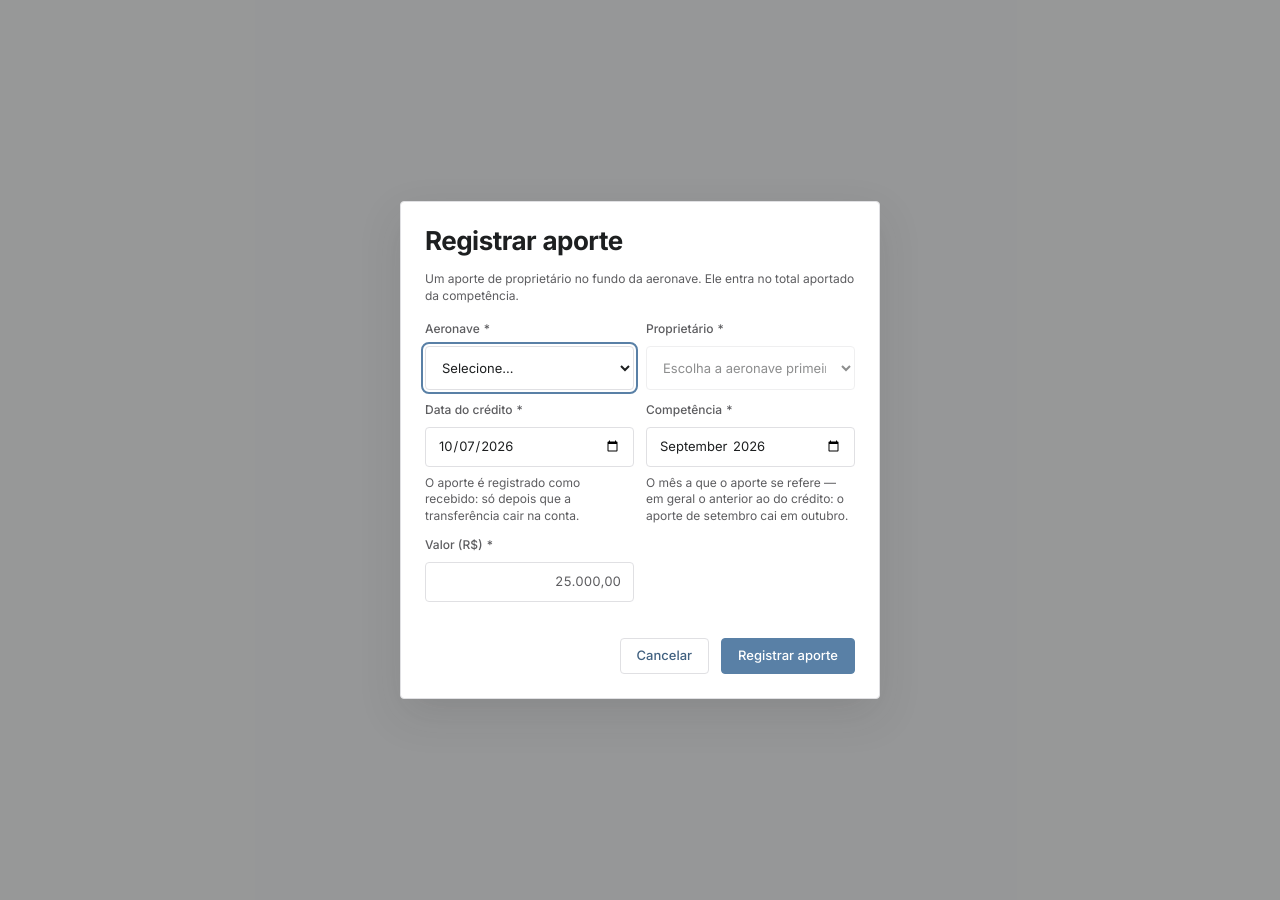
PainelDeAporte › salvar sem aeronave nem valor leva o foco à Aeronave e diz o que falta, sem ir ao servidor
The width and height of the screenshot is (1280, 900).
Click the button "Registrar aporte". click: (788, 656)
box: [721,638,855,674]
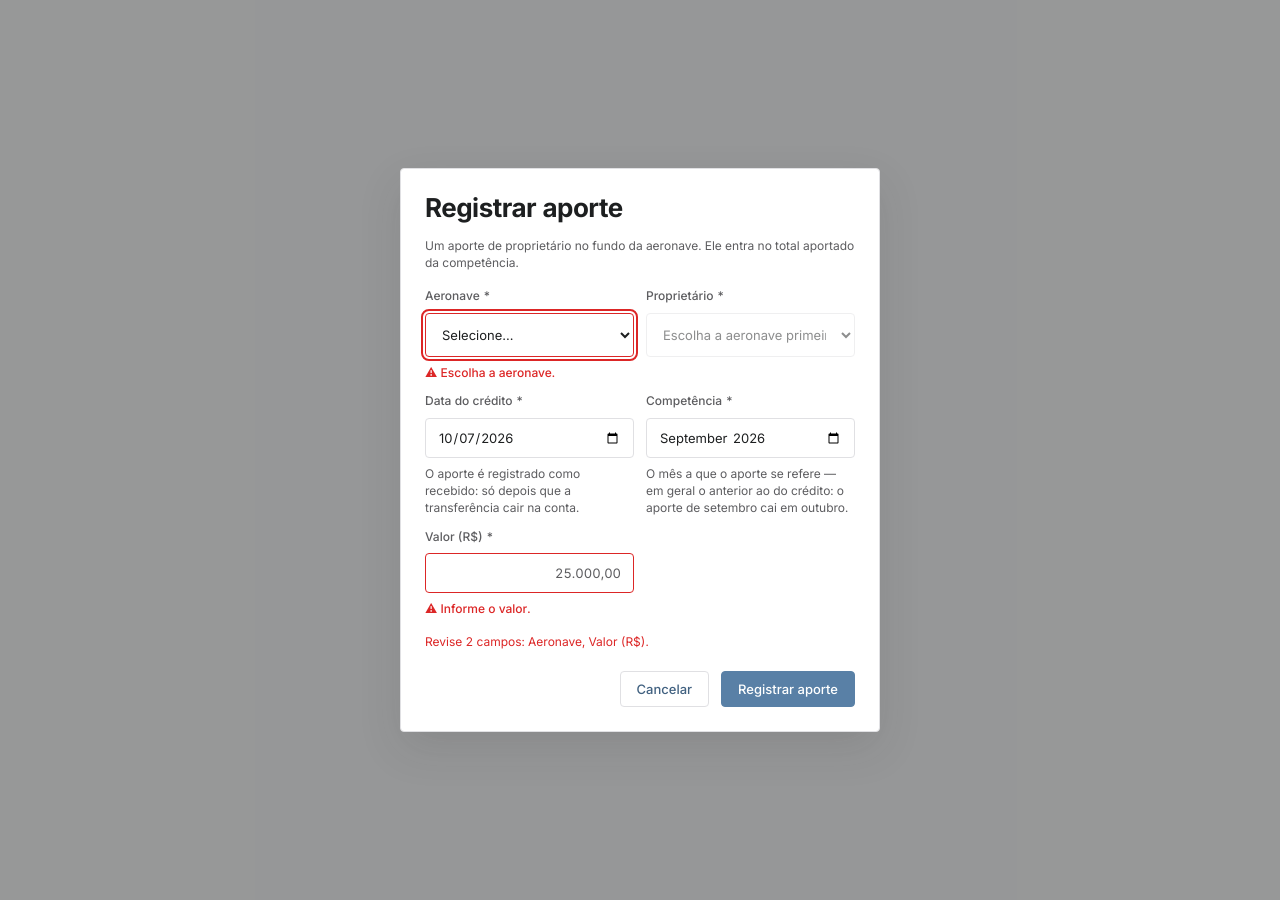
Check: the text "Revise 2 campos: Aeronave, Valor (R$)." is shown, box [425,634,649,649]
